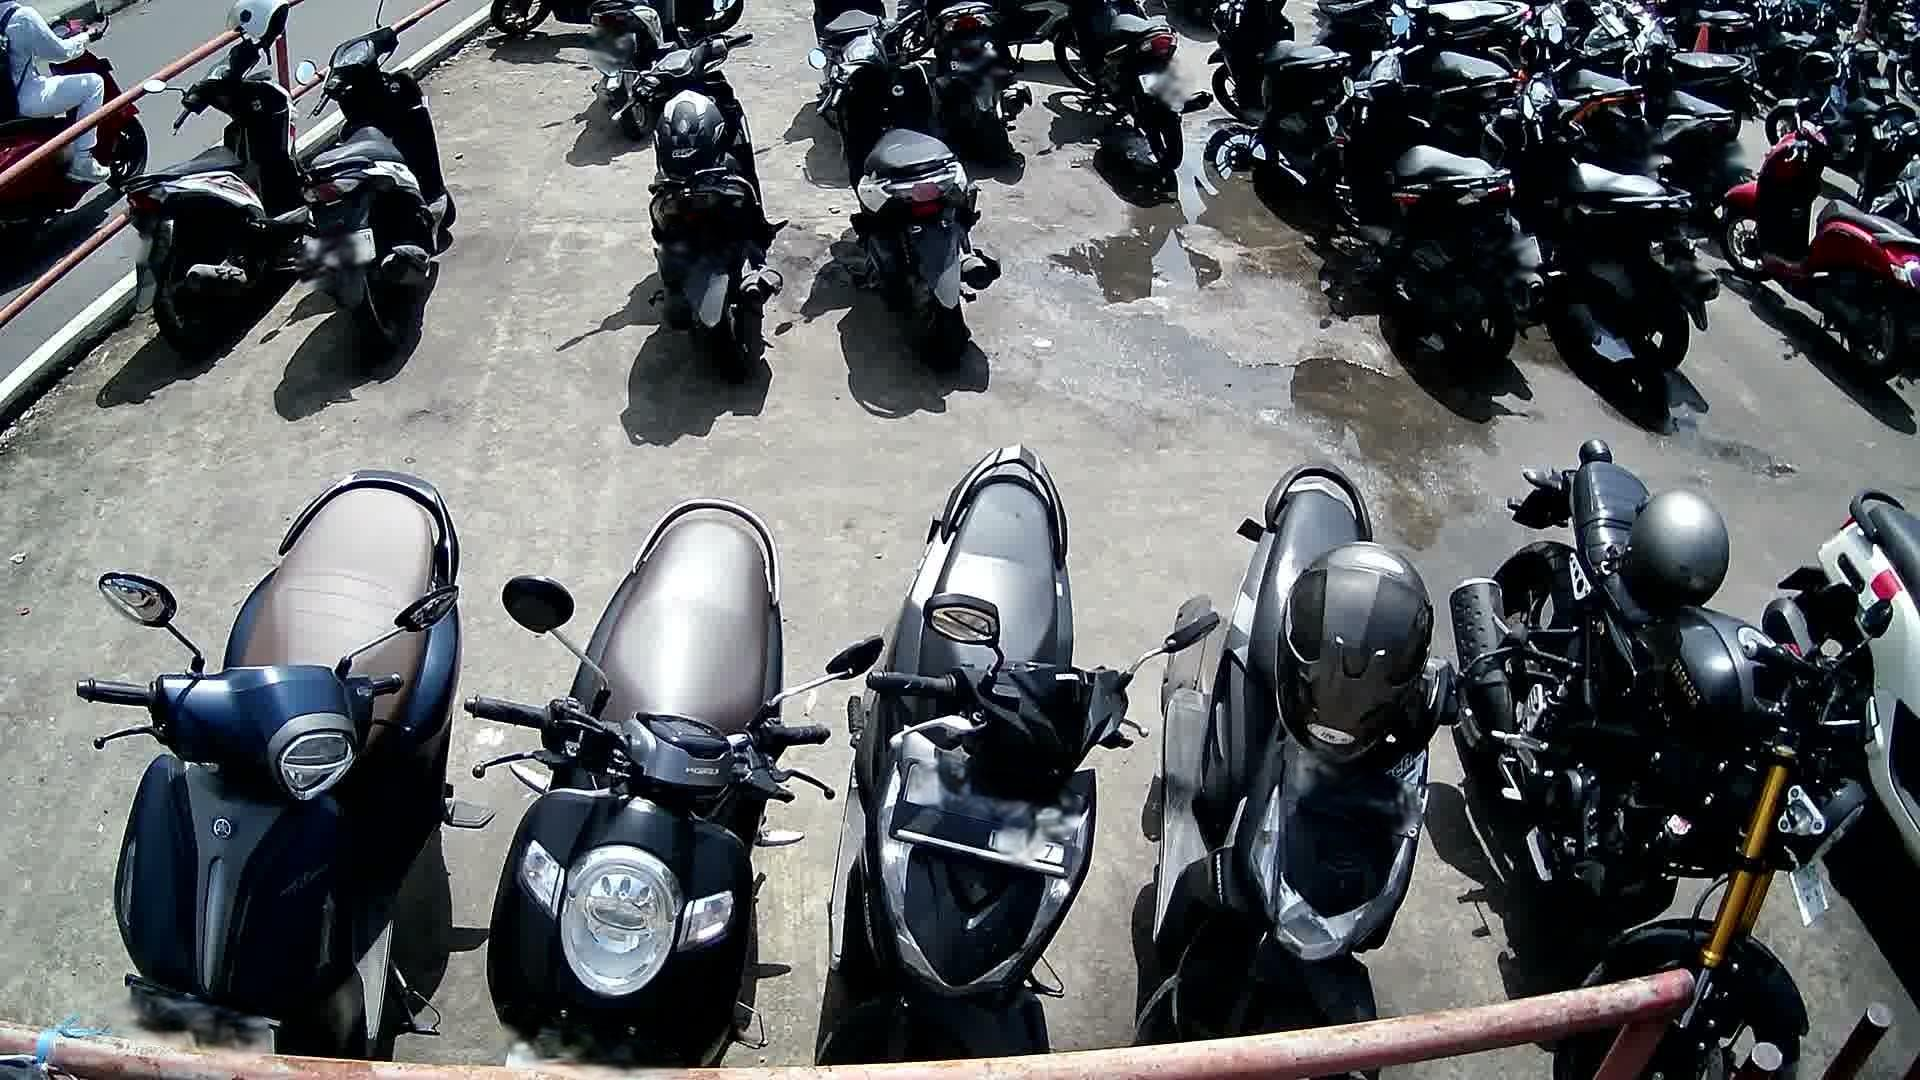motorcycle: (1449, 439, 1869, 1080), (75, 467, 495, 1054), (466, 502, 885, 1080), (825, 447, 1167, 1058), (1131, 462, 1480, 1047), (1310, 38, 1550, 381), (1480, 60, 1721, 382), (806, 12, 1003, 370), (120, 33, 315, 362), (607, 30, 789, 377), (1763, 486, 1920, 877), (1721, 110, 1920, 388), (295, 15, 457, 355)
